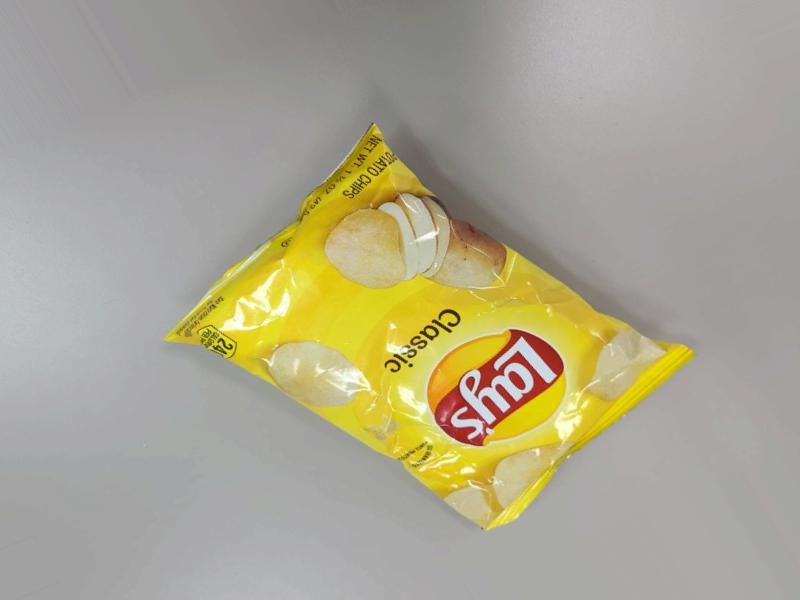lays: (216, 173, 727, 600)
